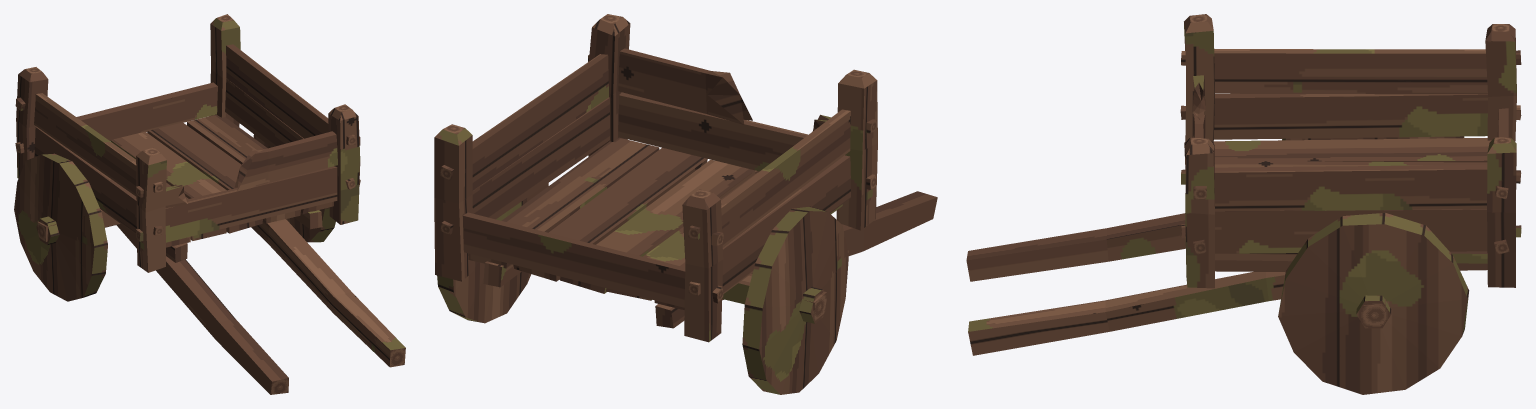
The model's file is SM_AN19_Handcart.fbx.
3 views of the same model, side by side, from view 1: azimuth 30°, elevation 25°; view 2: azimuth 150°, elevation 25°; view 3: azimuth 270°, elevation 25° (orthographic). The views are drawn at different scales.
Visible parts, largest first — view 1: AN19a_Wood, AN19a_Props; view 2: AN19a_Wood, AN19a_Props; view 3: AN19a_Wood, AN19a_Props.
Part boxes in pixels (box(x1,y1,x2,y2)): AN19a_Wood: box(14, 18, 405, 394); AN19a_Props: box(15, 14, 405, 394); AN19a_Wood: box(434, 17, 937, 394); AN19a_Props: box(440, 14, 876, 323); AN19a_Wood: box(966, 14, 1521, 394); AN19a_Props: box(1180, 14, 1521, 328).
Bounding box in the file's own units: 1.72 × 1.15 × 2.39.
